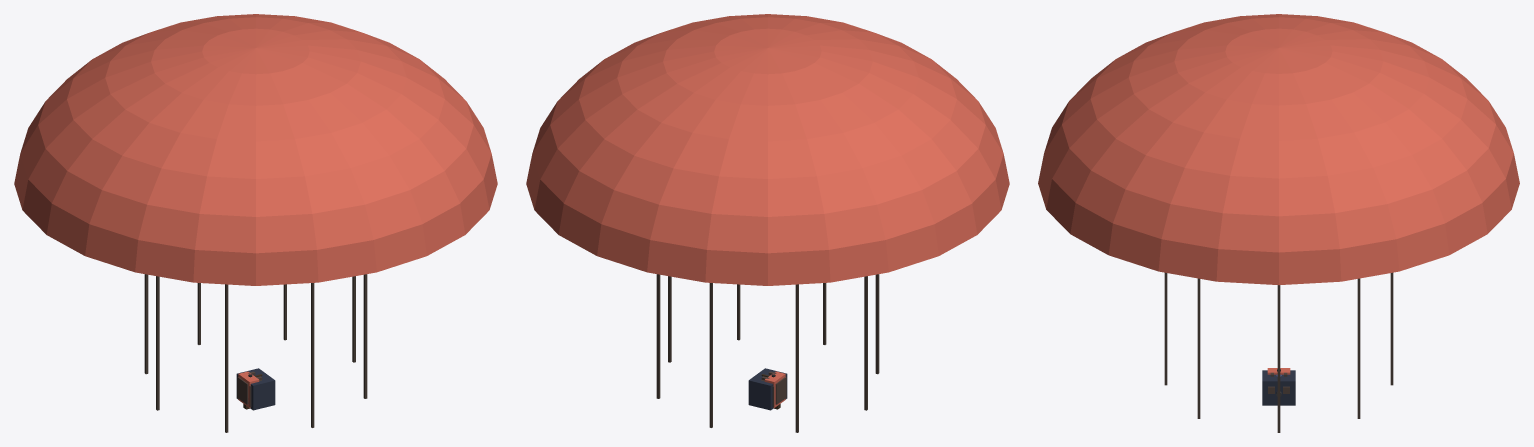
Rendered from Acc_All.fbx.
The picture shows the model from 3 angles, left to right: view 1: azimuth 30°, elevation 25°; view 2: azimuth 150°, elevation 25°; view 3: azimuth 270°, elevation 25°; orthographic projection.
Parts seen in each view (by area): view 1: SM_Parachute_Canopy, SM_Vest_Tactical; view 2: SM_Parachute_Canopy, SM_Vest_Tactical; view 3: SM_Parachute_Canopy, SM_Vest_Tactical.
Part boxes in pixels (x1=…): SM_Parachute_Canopy: x1=14, y1=14, x2=497, y2=432; SM_Vest_Tactical: x1=236, y1=368, x2=275, y2=410; SM_Parachute_Canopy: x1=526, y1=14, x2=1009, y2=432; SM_Vest_Tactical: x1=748, y1=368, x2=787, y2=410; SM_Parachute_Canopy: x1=1038, y1=14, x2=1519, y2=432; SM_Vest_Tactical: x1=1262, y1=370, x2=1295, y2=405.
Size of the model in its own units: 64000 by 64000 by 52240.
